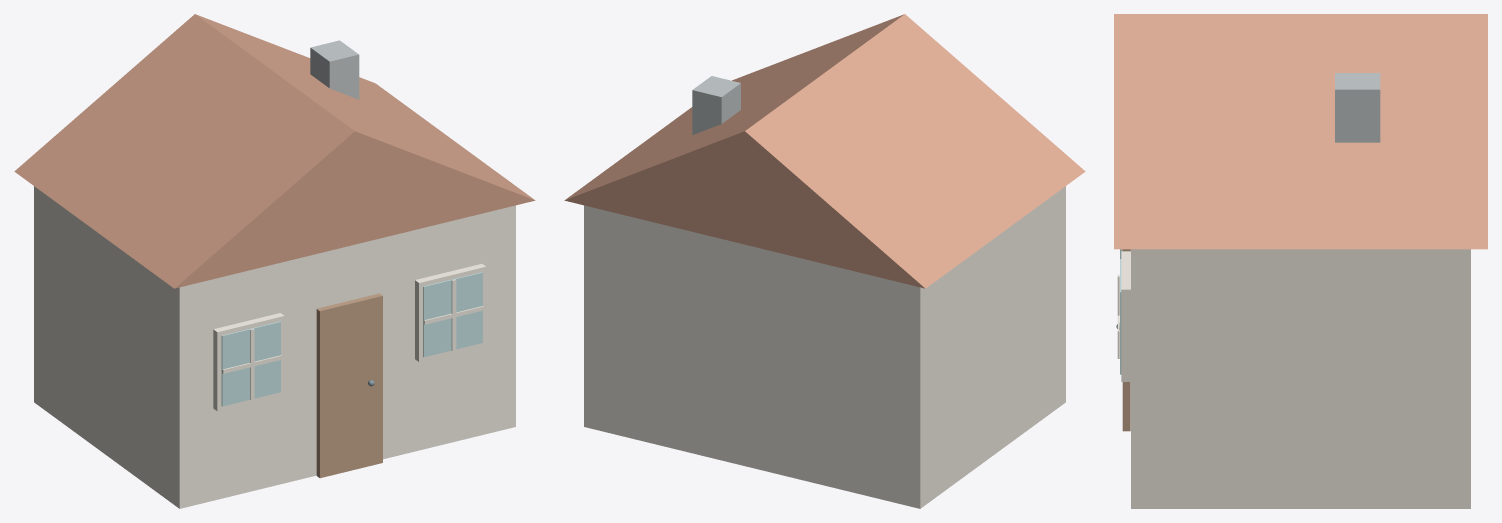
Rendered from cottage.glb.
The picture shows the model from 3 angles, left to right: view 1: azimuth 30°, elevation 25°; view 2: azimuth 150°, elevation 25°; view 3: azimuth 270°, elevation 25°; orthographic projection. The views are drawn at different scales.
Visible parts, largest first — view 1: cottage_000, cottage_001, cottage_002, cottage_009, cottage_005, cottage_012, cottage_008, cottage_004; view 2: cottage_000, cottage_001, cottage_012; view 3: cottage_000, cottage_001, cottage_012, cottage_008, cottage_002.
Part boxes in pixels (left/top/right/bottom): cottage_000: left=34, top=186, right=515, bottom=508; cottage_001: left=14, top=14, right=535, bottom=288; cottage_002: left=316, top=293, right=382, bottom=478; cottage_009: left=423, top=272, right=482, bottom=357; cottage_005: left=221, top=321, right=280, bottom=406; cottage_012: left=310, top=40, right=359, bottom=99; cottage_008: left=415, top=264, right=486, bottom=362; cottage_004: left=213, top=313, right=284, bottom=411; cottage_000: left=584, top=186, right=1065, bottom=508; cottage_001: left=564, top=14, right=1085, bottom=288; cottage_012: left=692, top=76, right=740, bottom=134; cottage_000: left=1131, top=249, right=1470, bottom=508; cottage_001: left=1114, top=14, right=1487, bottom=249; cottage_012: left=1335, top=73, right=1380, bottom=142; cottage_008: left=1121, top=251, right=1130, bottom=381; cottage_002: left=1122, top=249, right=1130, bottom=431.
Bounding box in the file's own units: 4.3 × 3.89 × 3.3.
